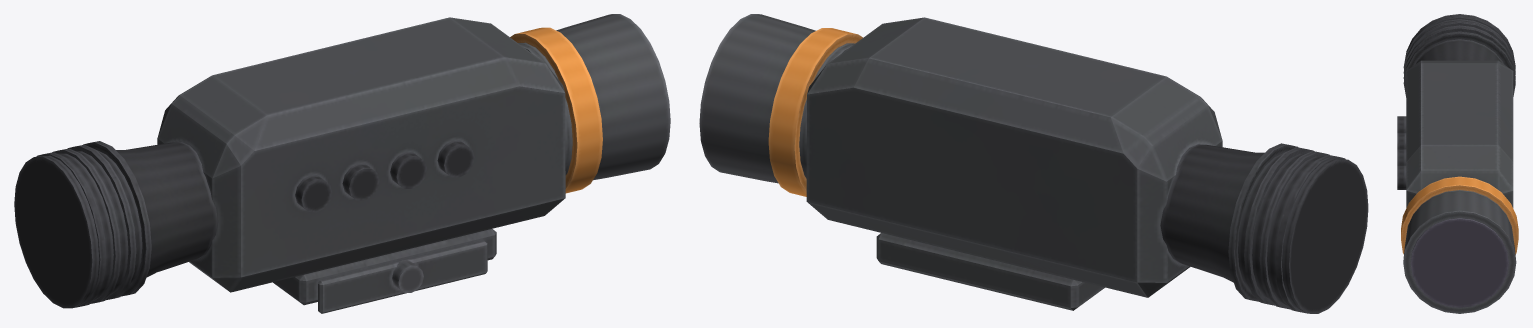
The model's file is AT_Thermal.fbx.
The picture shows the model from 3 angles, left to right: view 1: azimuth 30°, elevation 25°; view 2: azimuth 150°, elevation 25°; view 3: azimuth 270°, elevation 25°; orthographic projection. The views are drawn at different scales.
Visible parts, largest first — view 1: AT_Thermal; view 2: AT_Thermal; view 3: AT_Thermal.
Part boxes in pixels (bbox=[...]): AT_Thermal: bbox=[14, 14, 670, 313]; AT_Thermal: bbox=[699, 14, 1368, 313]; AT_Thermal: bbox=[1397, 14, 1518, 313].
Bounding box in the file's own units: 0.1585 × 0.056 × 0.0408.
Materials: 1 (1 with a texture image).
